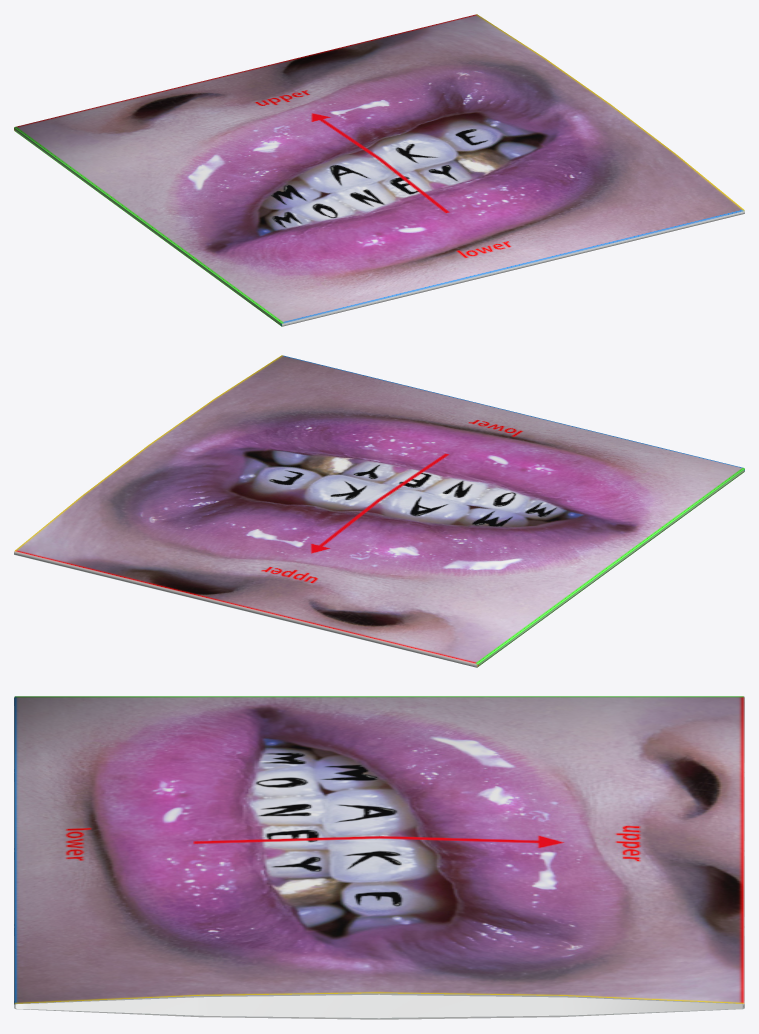
The model's file is sleeve_7_single_no_spine.dae.
3 views of the same model, one above another, from view 1: azimuth 30°, elevation 25°; view 2: azimuth 150°, elevation 25°; view 3: azimuth 270°, elevation 25° (orthographic). The views are drawn at different scales.
Visible parts, largest first — view 1: sleeve; view 2: sleeve; view 3: sleeve.
Part boxes in pixels (box(x1,y1,x2,y2)): sleeve: box(14, 14, 744, 326); sleeve: box(14, 355, 744, 667); sleeve: box(14, 696, 744, 1019).
Size of the model in its own units: 17.93 by 0.8504 by 17.99.
Materials: 1 (1 with a texture image).
